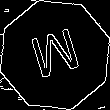M_S: (26, 24, 84, 86)
